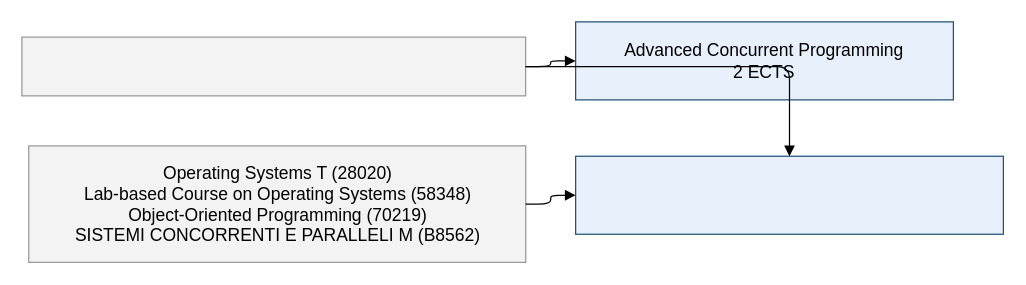
Some shapes in this 1026 by 285 pixel diagram are drawn without their labels. Here are the shapes that lost their labels. From the top down, the box of each, then its label:
(21, 36, 526, 96): Concurrent and Distributed Programming (17628)
(574, 155, 1003, 234): Concurrency Programming Fundamentals 3 ECTS
